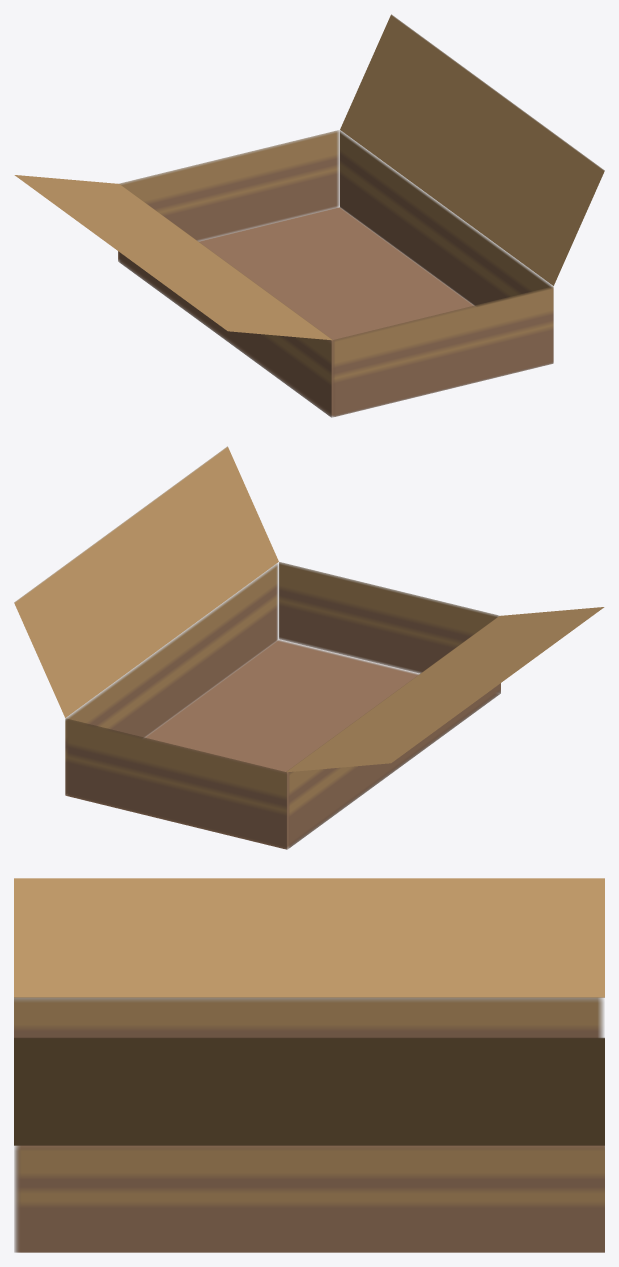
Rendered from cuboid6Opened.glb.
The picture shows the model from 3 angles, top to bottom: view 1: azimuth 30°, elevation 25°; view 2: azimuth 150°, elevation 25°; view 3: azimuth 270°, elevation 25°; orthographic projection. The views are drawn at different scales.
Visible parts, largest first — view 1: plane_2; view 2: plane_2; view 3: plane_2.
Part boxes in pixels (<box>): plane_2: <box>14,14,604,417</box>; plane_2: <box>14,446,604,849</box>; plane_2: <box>14,878,604,1252</box>.
Size of the model in its own units: 1.27 by 0.5826 by 1.25.
1 material, 1 textured.
